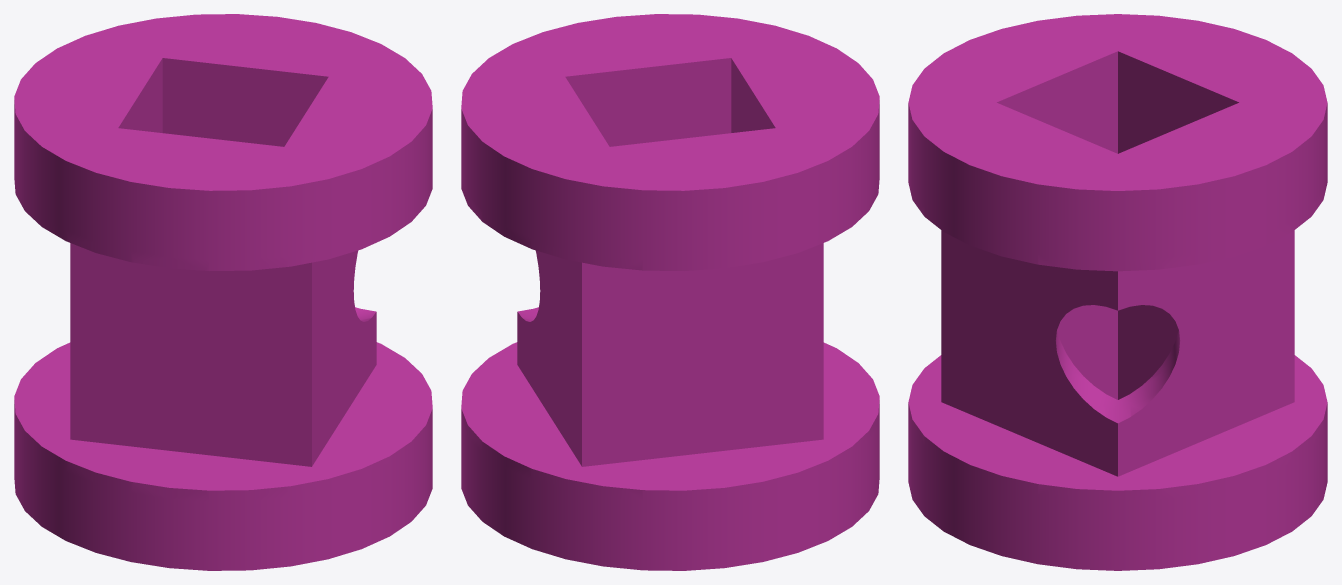
Rendered from var_18.glb.
3 renders of one model, left to right at view 1: azimuth 30°, elevation 25°; view 2: azimuth 150°, elevation 25°; view 3: azimuth 270°, elevation 25°, orthographic.
Visible parts, largest first — view 1: Cylinder; view 2: Cylinder; view 3: Cylinder.
Boxes of the visible parts, x1=… form: Cylinder: x1=14, y1=14, x2=432, y2=570; Cylinder: x1=461, y1=14, x2=879, y2=570; Cylinder: x1=908, y1=14, x2=1327, y2=570.
Size of the model in its own units: 2 by 2 by 2.
